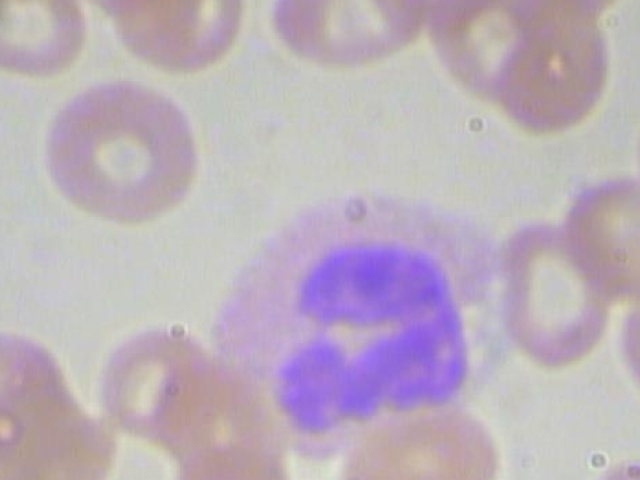RBC: (25, 78, 202, 231), (490, 213, 616, 368), (91, 0, 253, 82), (265, 0, 434, 67), (0, 0, 98, 79), (518, 0, 640, 16), (634, 81, 640, 211)
WBC: (203, 175, 527, 462)
